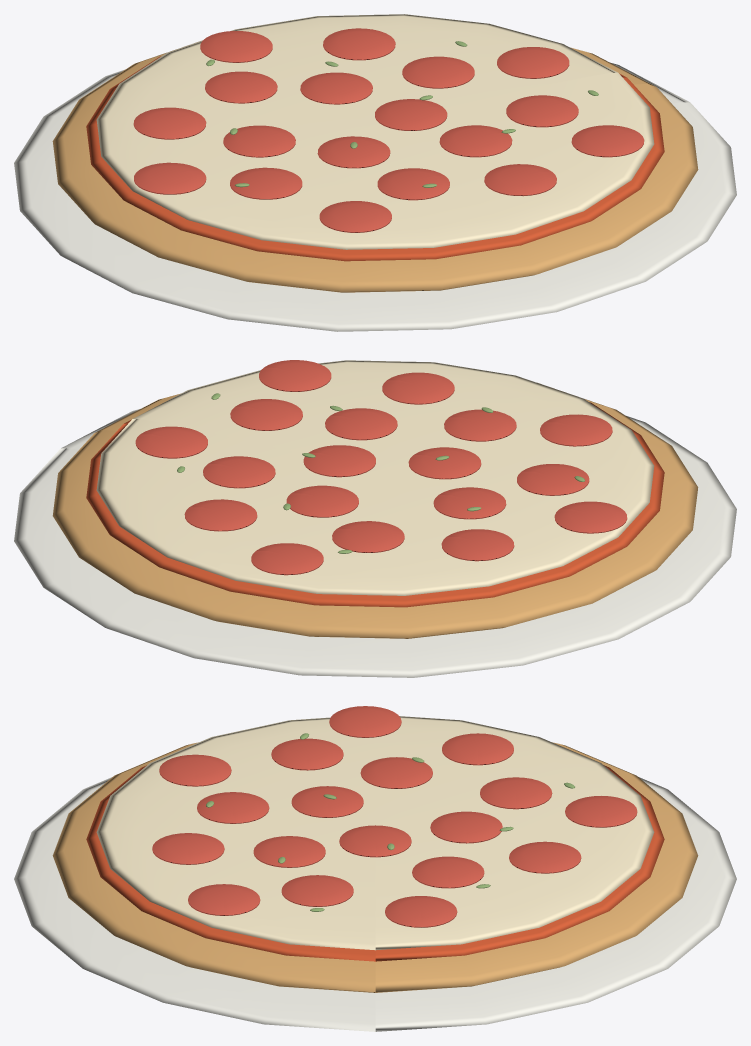
Rendered from chicken-pepperoni-pizza.glb.
The picture shows the model from 3 angles, top to bottom: view 1: azimuth 30°, elevation 25°; view 2: azimuth 150°, elevation 25°; view 3: azimuth 270°, elevation 25°; orthographic projection.
Visible parts, largest first — view 1: chicken-pepperoni-pizza; view 2: chicken-pepperoni-pizza; view 3: chicken-pepperoni-pizza.
Boxes of the visible parts, x1,y1,x2,y2 form: chicken-pepperoni-pizza: (14, 14, 736, 331); chicken-pepperoni-pizza: (14, 360, 736, 677); chicken-pepperoni-pizza: (14, 706, 736, 1031).
Size of the model in its own units: 0.28 by 0.0305 by 0.28.
